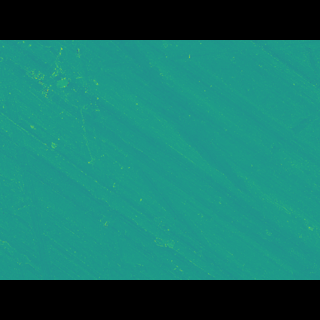Loch: (104, 68, 320, 185), (0, 70, 57, 250)
